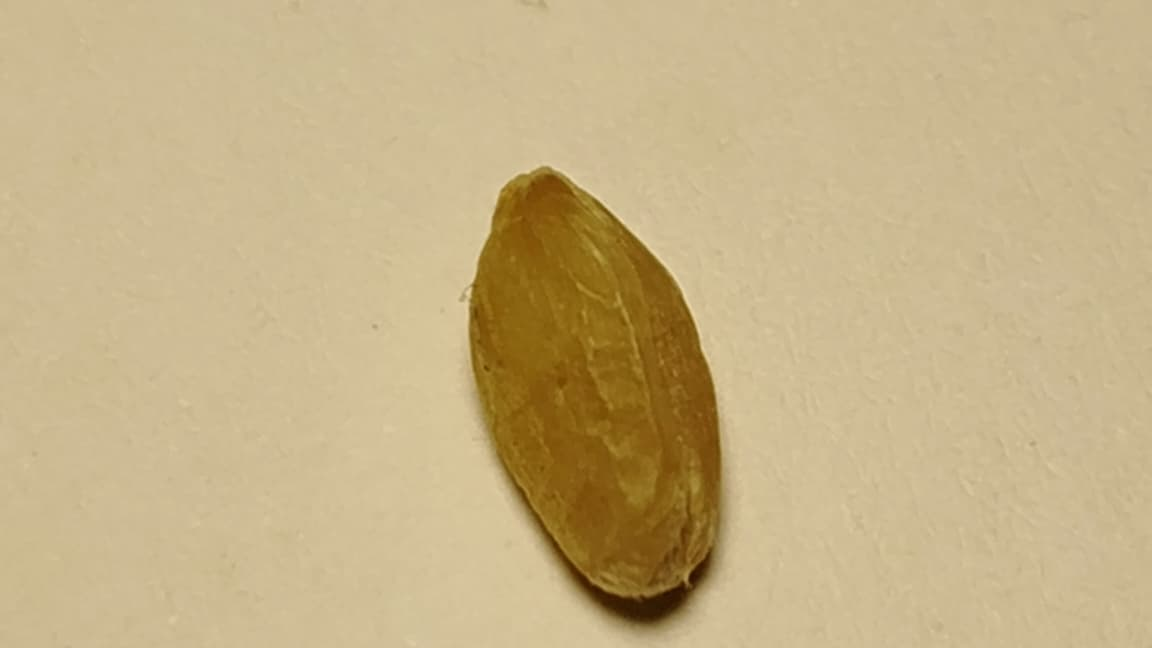healthy: (471, 167, 720, 597)
